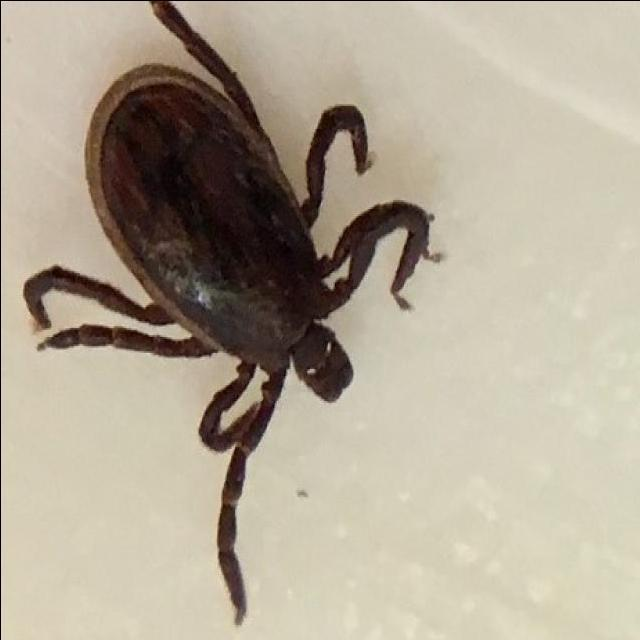Ixodes Ricinus-M: (19, 59, 443, 624)
